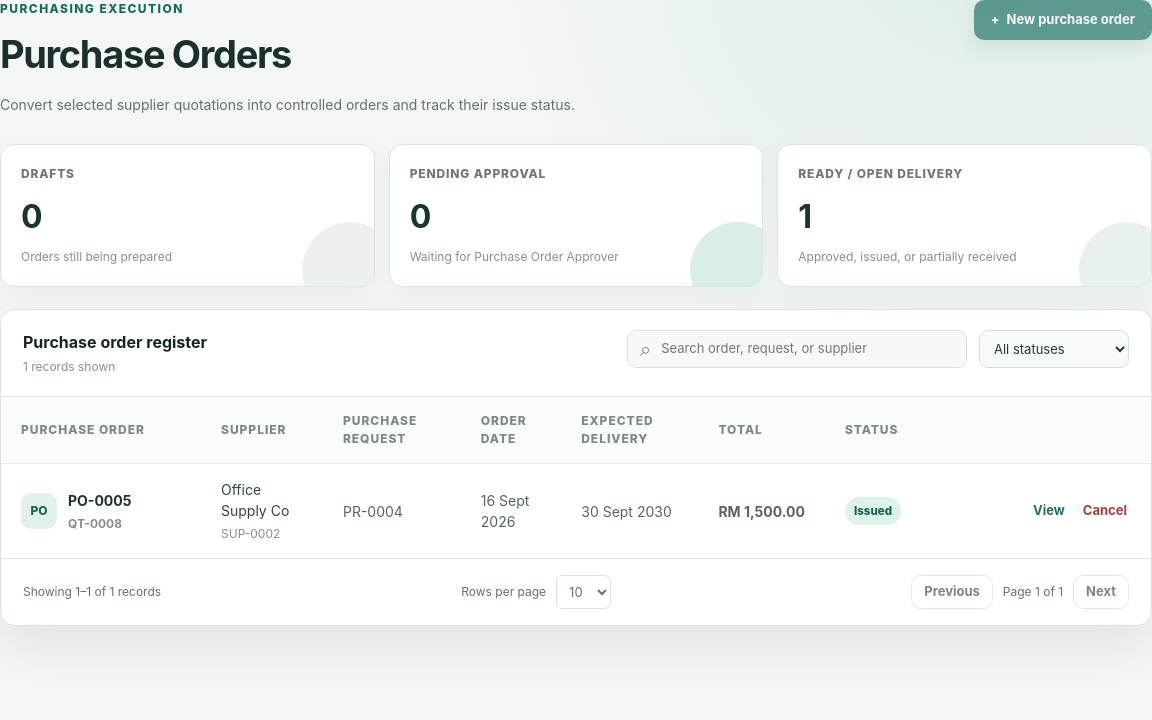
Test: PurchaseOrderListView › collects a reason before cancelling an issued order
Click the button "Cancel" at point(1105, 511), box x1=1079 y1=497 x2=1131 y2=525
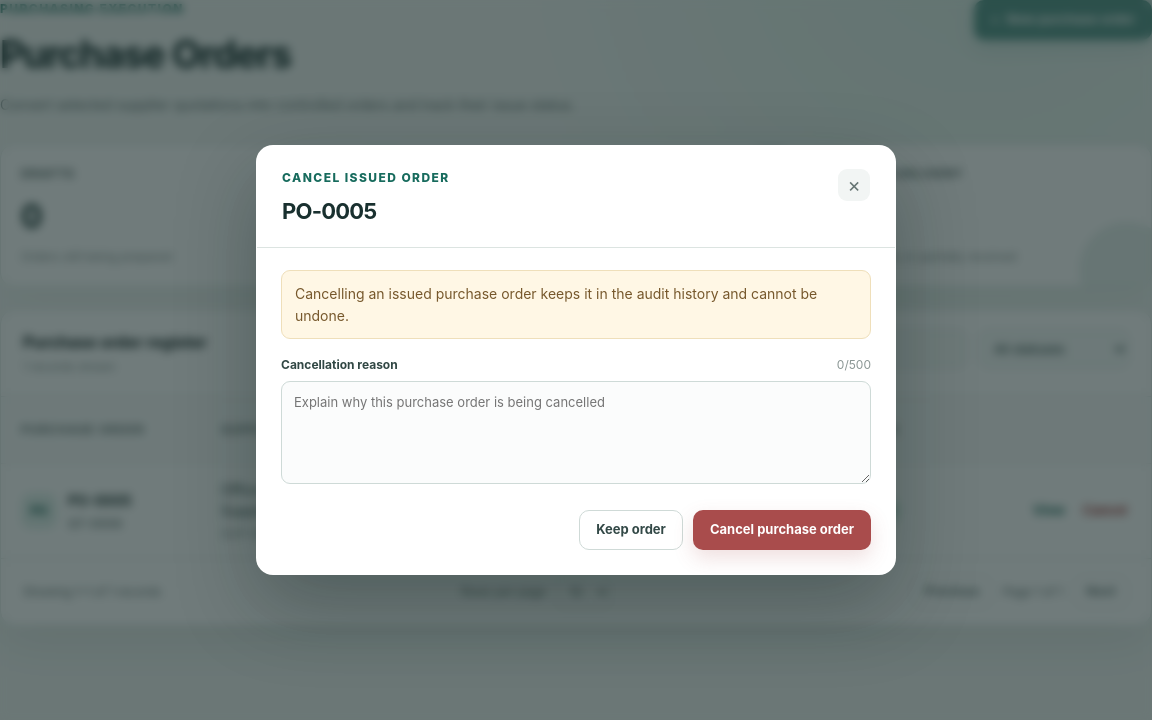
Type " Supplier unavailable " into the text box labelled "Cancellation reason" at point(576, 433), box x1=281 y1=381 x2=871 y2=484
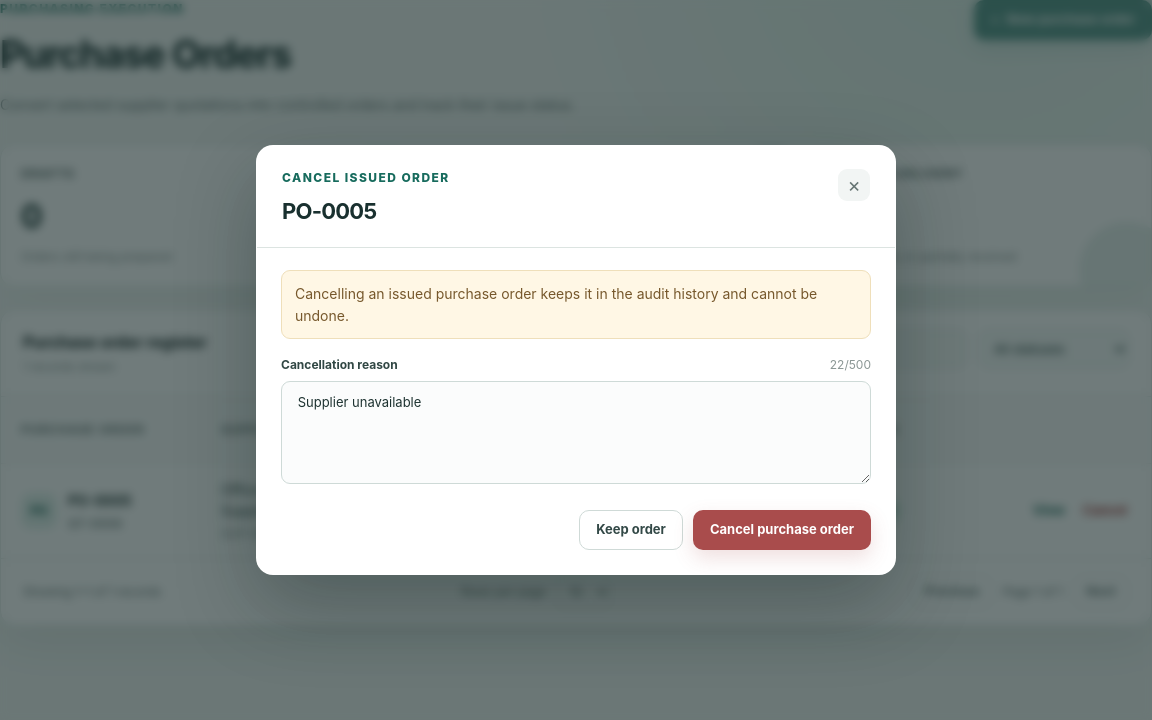
Submit the form, box x1=257 y1=248 x2=895 y2=574
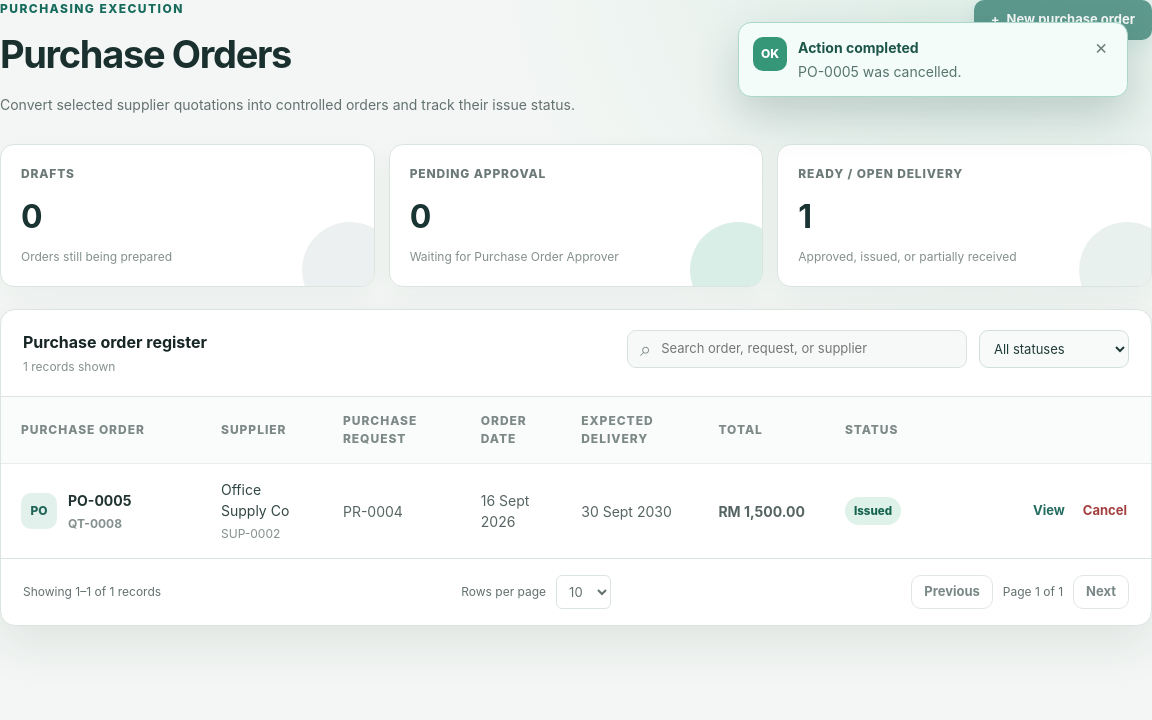
Check: the message with class "success-toast" shows "PO-0005 was cancelled", box x1=798 y1=63 x2=962 y2=80
